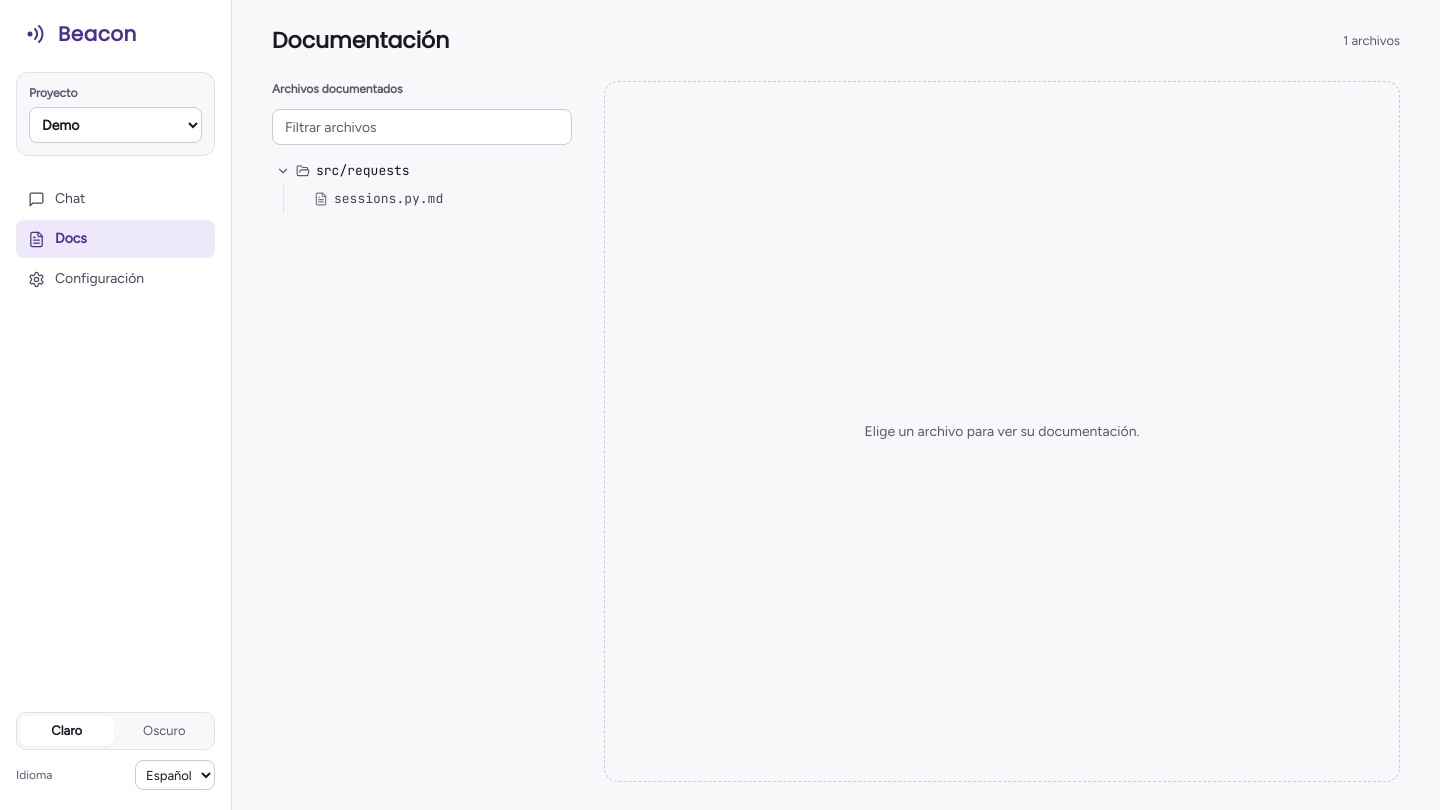
Test: documentación › lista los archivos y muestra el elegido
Expected: the text "Elige un archivo para ver su documentación." is shown, x1=865 y1=422 x2=1139 y2=442
Click the button with aria-label "src/requests/sessions.py.md" at (432, 199), box x1=291 y1=185 x2=572 y2=213
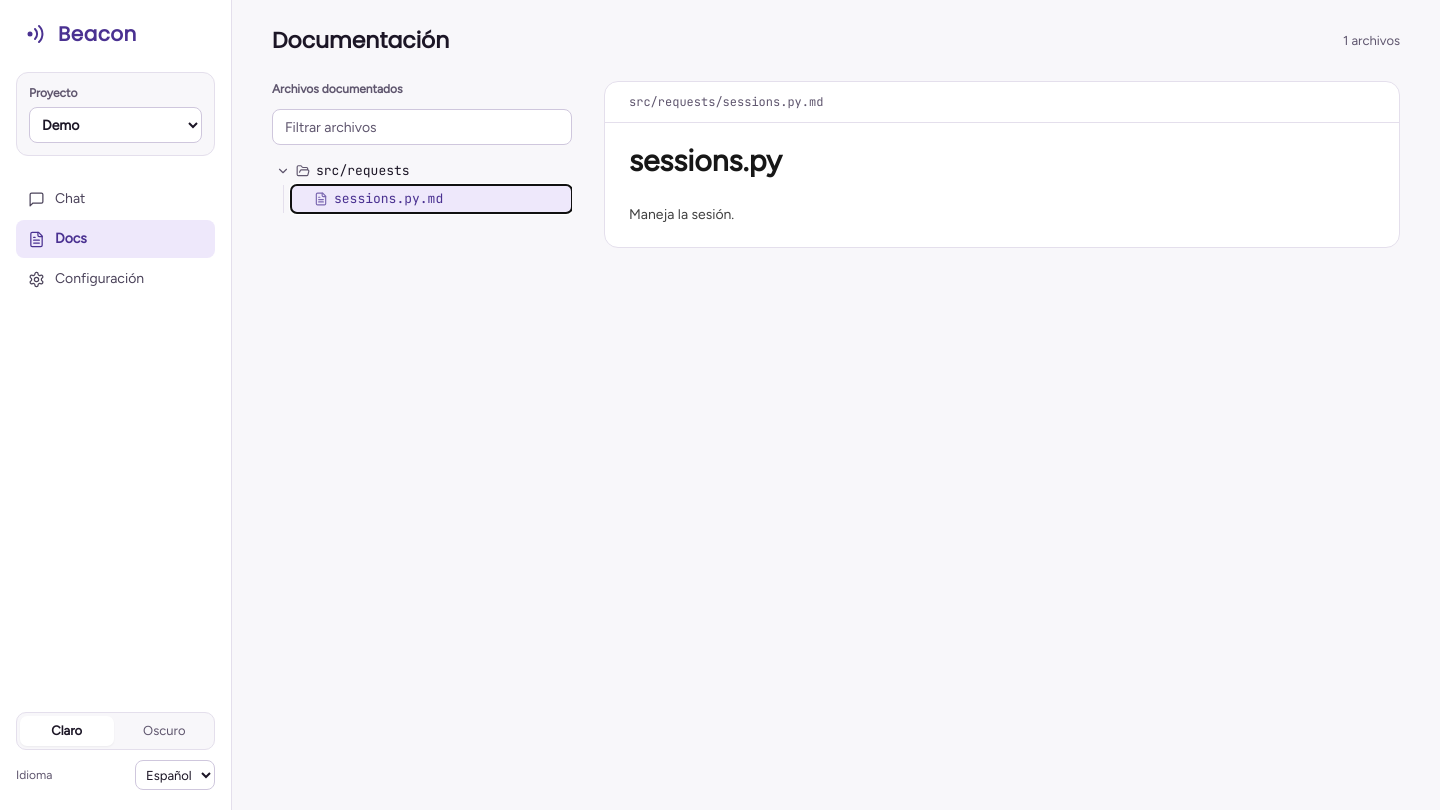
Expected: the text "Maneja la sesión." is shown, x1=629 y1=206 x2=734 y2=223
